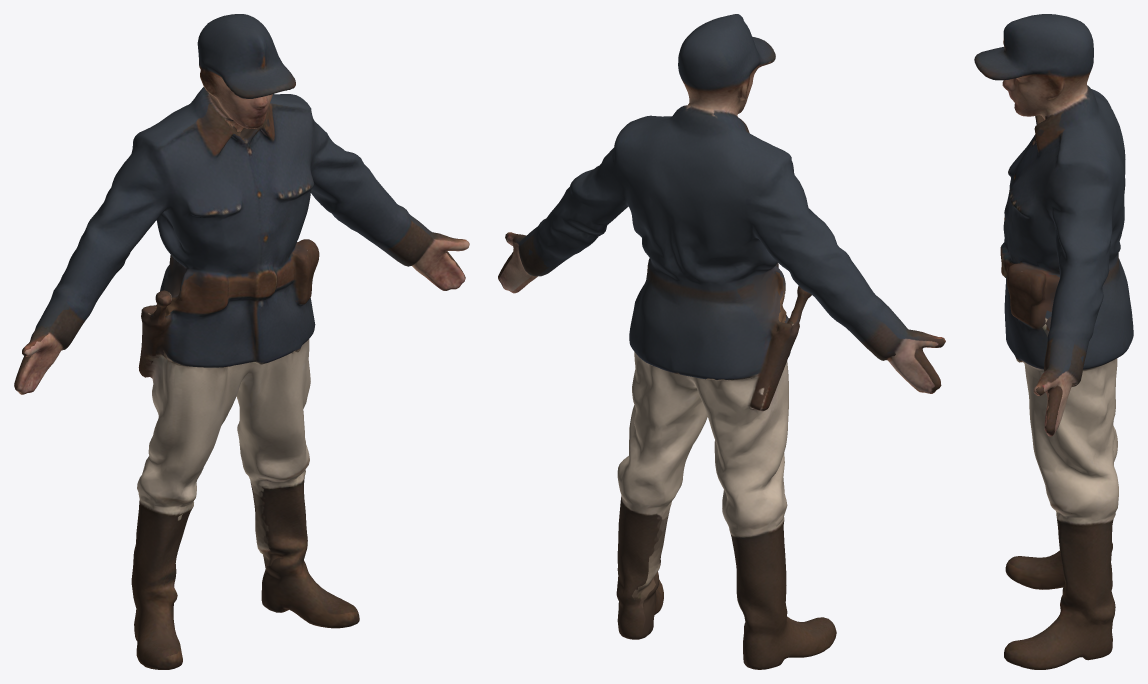
The model's file is soldado_rig.glb.
3 renders of one model, left to right at view 1: azimuth 30°, elevation 25°; view 2: azimuth 150°, elevation 25°; view 3: azimuth 270°, elevation 25°, orthographic. The views are drawn at different scales.
Visible parts, largest first — view 1: temp_mesh.ply; view 2: temp_mesh.ply; view 3: temp_mesh.ply.
Boxes of the visible parts, bbox=[...] form: temp_mesh.ply: bbox=[14, 14, 469, 669]; temp_mesh.ply: bbox=[498, 14, 945, 669]; temp_mesh.ply: bbox=[974, 14, 1133, 669].
Size of the model in its own units: 1.31 by 1.72 by 0.4106.
Materials: 1 (1 with a texture image).
